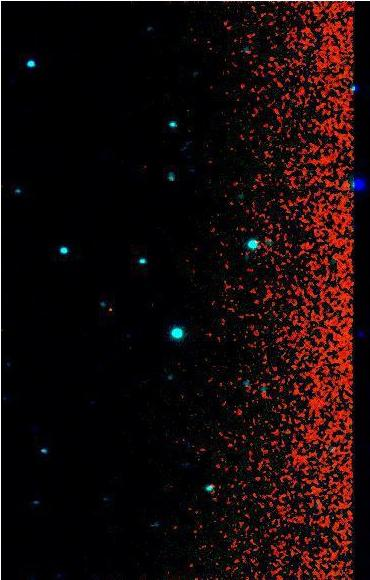star: (93, 295, 123, 325)
